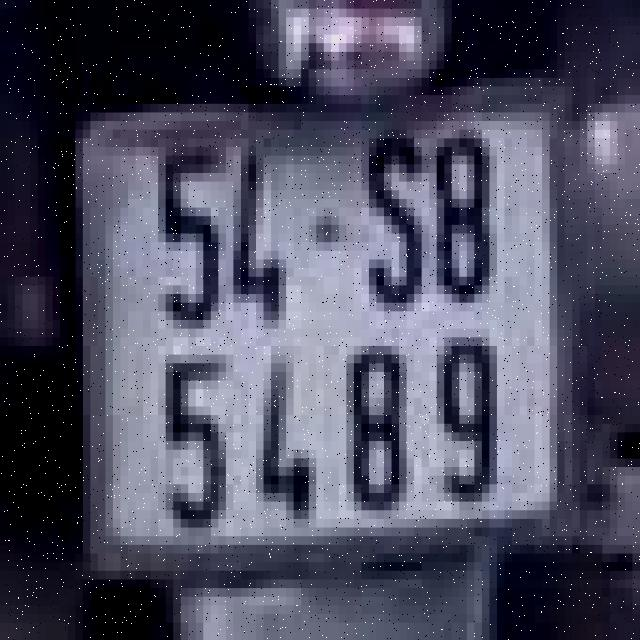4: (245, 337, 328, 519), (226, 143, 294, 333)
5: (139, 337, 237, 528), (143, 138, 226, 338)
8: (429, 121, 505, 311), (429, 324, 505, 506), (335, 333, 410, 515)
S: (346, 125, 429, 316)
